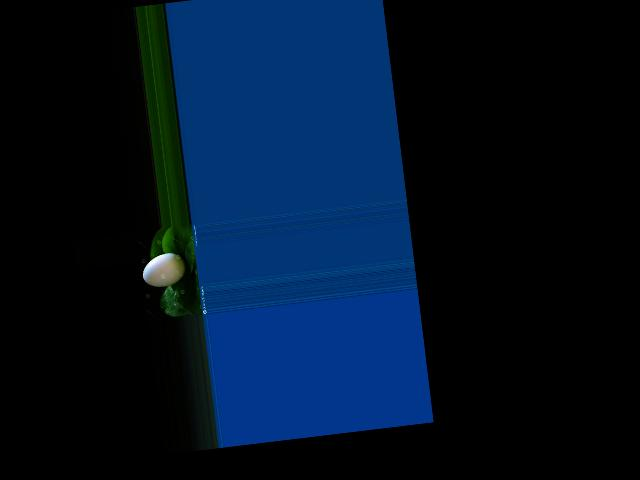egg: (140, 250, 188, 288)
